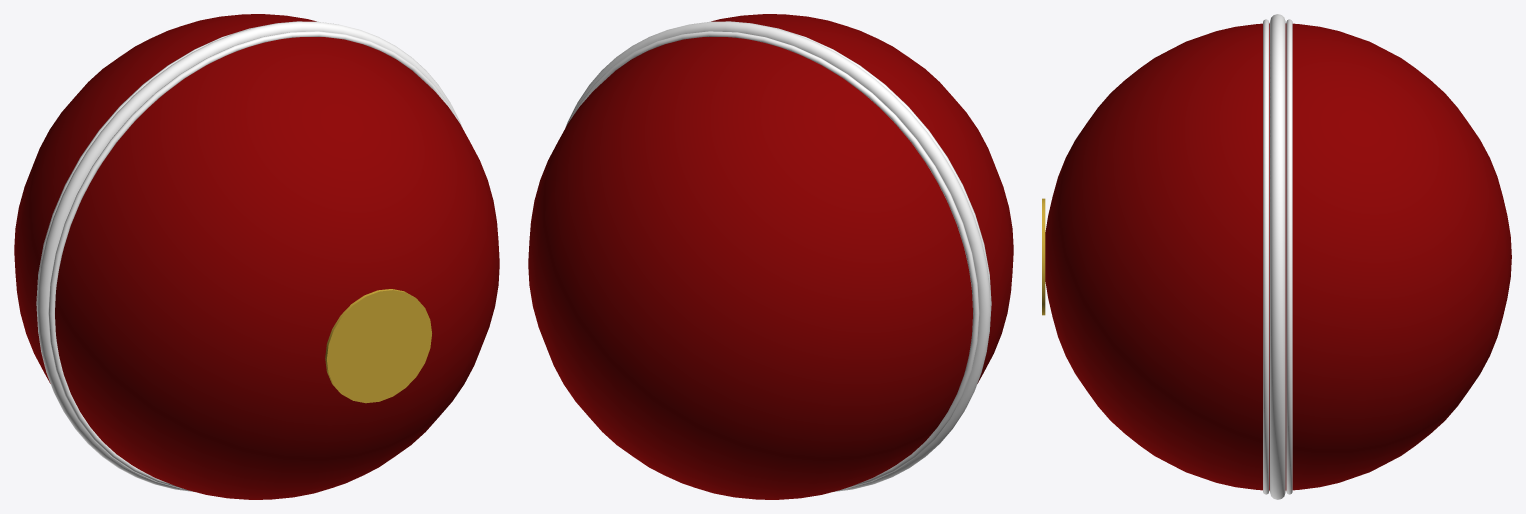
Rendered from cricket_ball.glb.
The picture shows the model from 3 angles, left to right: view 1: azimuth 30°, elevation 25°; view 2: azimuth 150°, elevation 25°; view 3: azimuth 270°, elevation 25°; orthographic projection. The views are drawn at different scales.
Parts seen in each view (by area): view 1: CricketBall; view 2: CricketBall; view 3: CricketBall.
Boxes of the visible parts, x1,y1,x2,y2 form: CricketBall: (14,14,499,499); CricketBall: (528,14,1013,499); CricketBall: (1042,14,1511,499).
Bounding box in the file's own units: 1.12 × 1.12 × 1.08.
